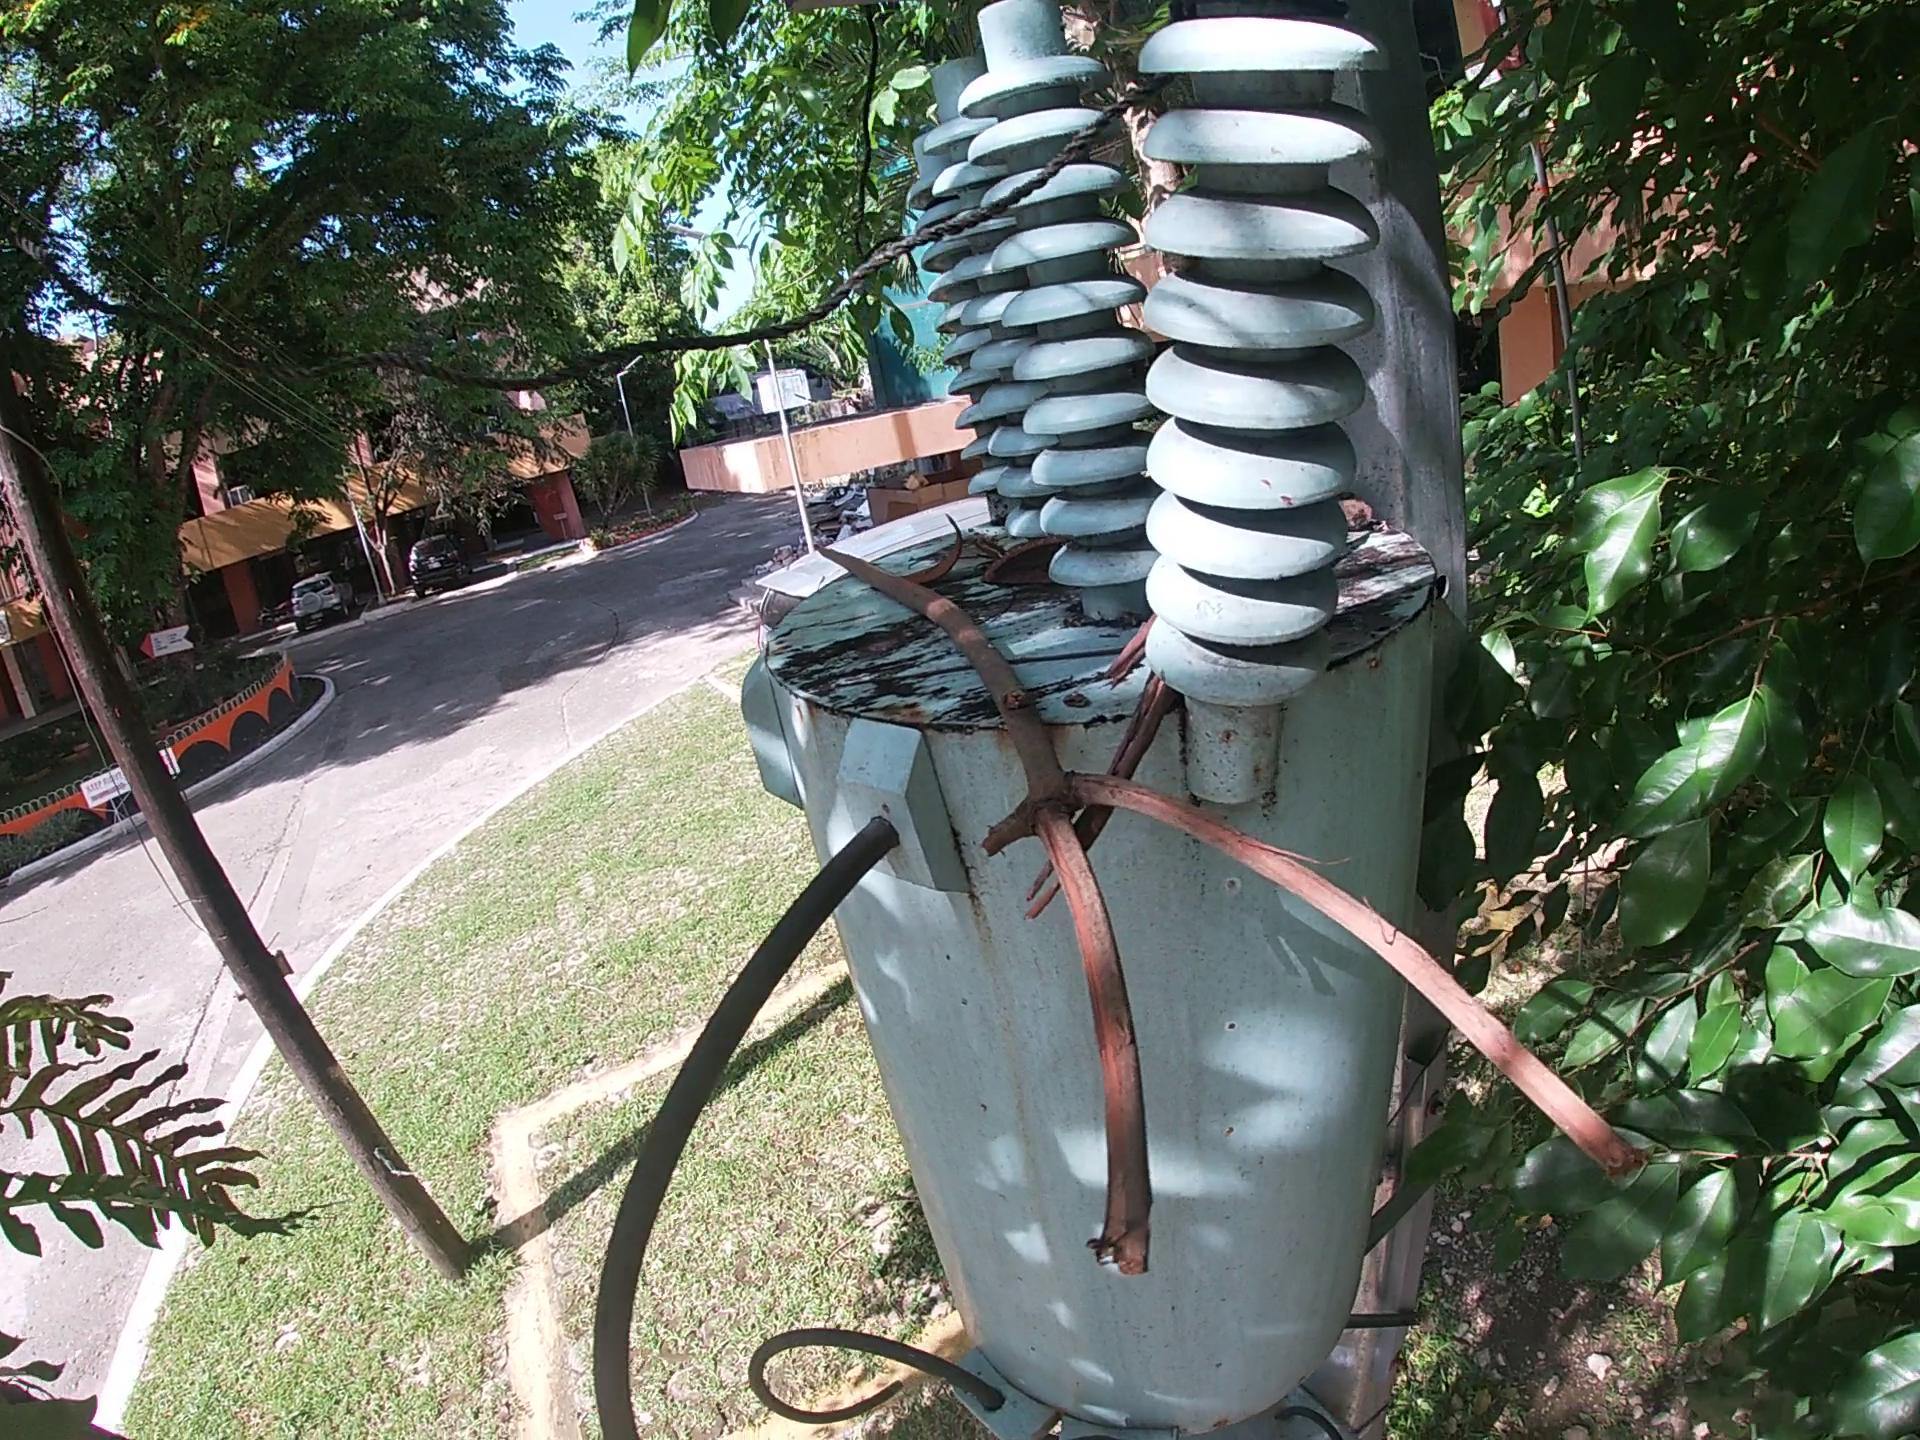mahogany fruit: (980, 546, 1067, 601), (900, 519, 965, 582)
tree branch: (810, 543, 1666, 1305), (1014, 687, 1166, 935), (848, 637, 1150, 700), (1093, 619, 1147, 696), (1332, 495, 1388, 543), (972, 529, 1008, 566)
